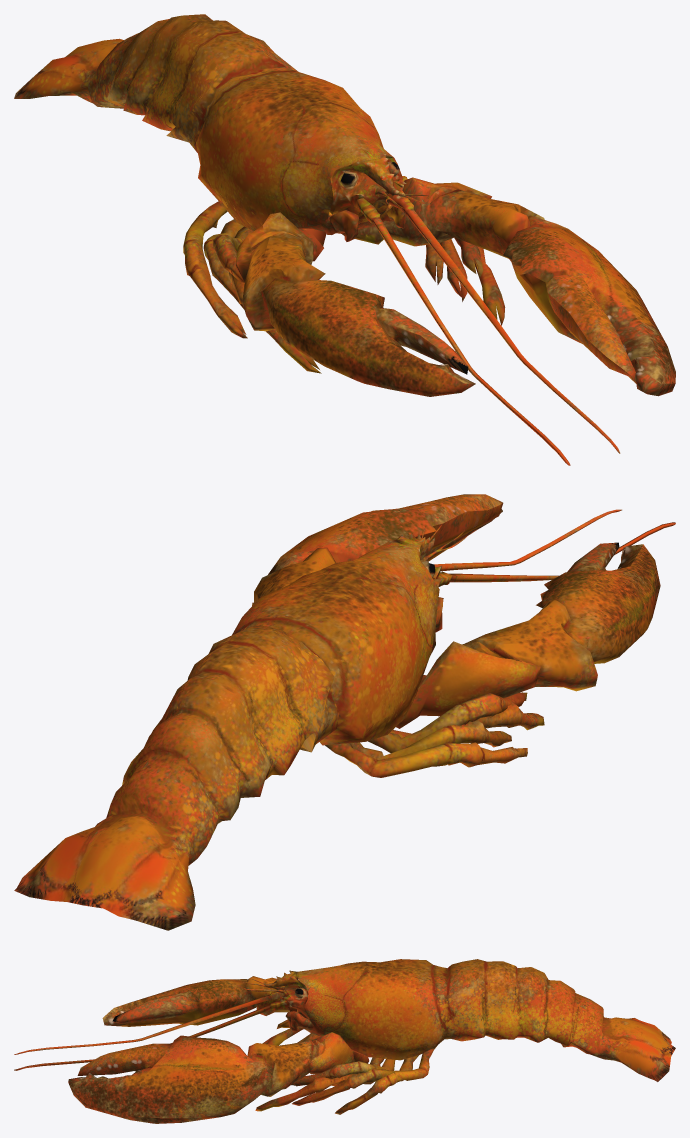
File: LobsterCooked.fbx
The picture shows the model from 3 angles, top to bottom: view 1: azimuth 30°, elevation 25°; view 2: azimuth 150°, elevation 25°; view 3: azimuth 270°, elevation 25°; orthographic projection. The views are drawn at different scales.
Visible parts, largest first — view 1: Lobster_Body_low.002, Lobster_Claws_low.002, Lobster_Legs_04_low.002, Lobster_Legs_01_low.002, Lobster_Legs_03_low.002, Lobster_Legs_02_low.002; view 2: Lobster_Body_low.002, Lobster_Claws_low.002, Lobster_Legs_04_low.002, Lobster_Legs_02_low.002, Lobster_Legs_03_low.002, Lobster_Legs_01_low.002; view 3: Lobster_Body_low.002, Lobster_Claws_low.002, Lobster_Legs_01_low.002, Lobster_Legs_03_low.002, Lobster_Legs_04_low.002, Lobster_Legs_02_low.002.
Boxes of the visible parts, <box> form: Lobster_Body_low.002: <box>14,14,620,465</box>; Lobster_Claws_low.002: <box>235,177,675,396</box>; Lobster_Legs_04_low.002: <box>183,176,443,338</box>; Lobster_Legs_01_low.002: <box>229,237,505,373</box>; Lobster_Legs_03_low.002: <box>203,219,467,335</box>; Lobster_Legs_02_low.002: <box>213,226,483,282</box>; Lobster_Body_low.002: <box>14,509,675,930</box>; Lobster_Claws_low.002: <box>252,494,660,728</box>; Lobster_Legs_04_low.002: <box>325,742,527,777</box>; Lobster_Legs_02_low.002: <box>368,692,527,753</box>; Lobster_Legs_03_low.002: <box>350,720,511,759</box>; Lobster_Legs_01_low.002: <box>390,702,544,737</box>; Lobster_Body_low.002: <box>14,959,675,1081</box>; Lobster_Claws_low.002: <box>68,976,369,1123</box>; Lobster_Legs_01_low.002: <box>255,1026,384,1111</box>; Lobster_Legs_03_low.002: <box>292,1033,418,1105</box>; Lobster_Legs_04_low.002: <box>310,1033,433,1114</box>; Lobster_Legs_02_low.002: <box>277,1019,395,1086</box>.
Size of the model in its own units: 111 by 60.67 by 302.
1 material, 1 textured.
